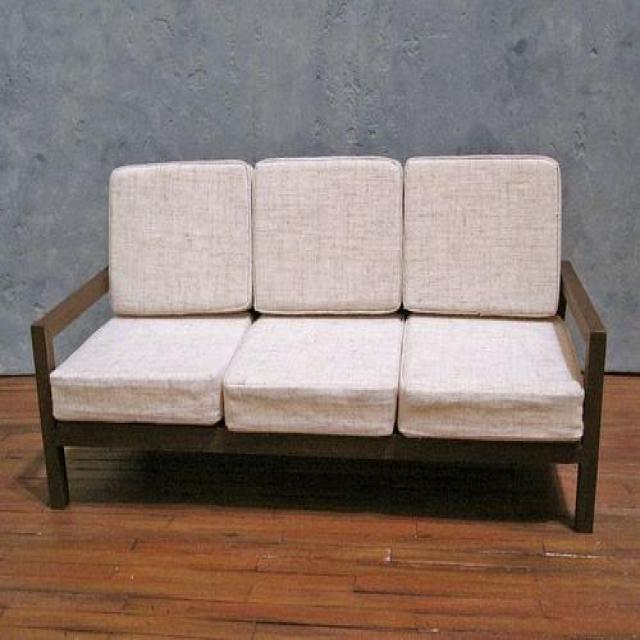sofa: (29, 152, 607, 532)
